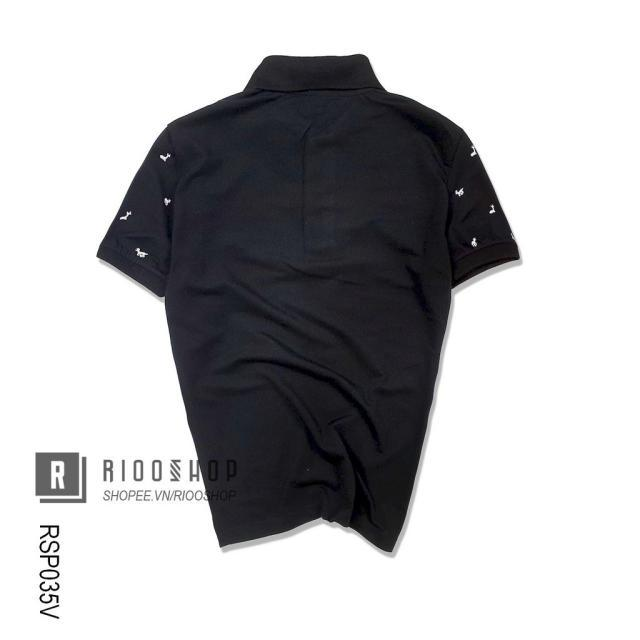Shirt: (93, 52, 526, 557)
